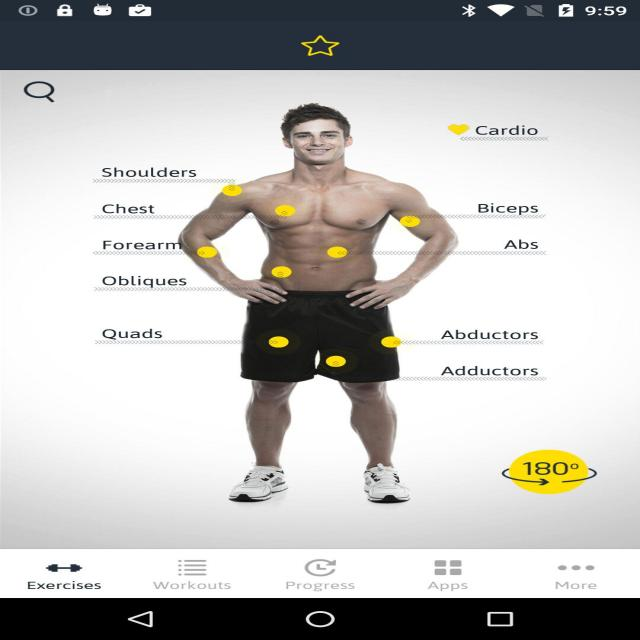icon: (499, 442, 629, 508), (284, 37, 367, 55)
image: (46, 68, 563, 534)
